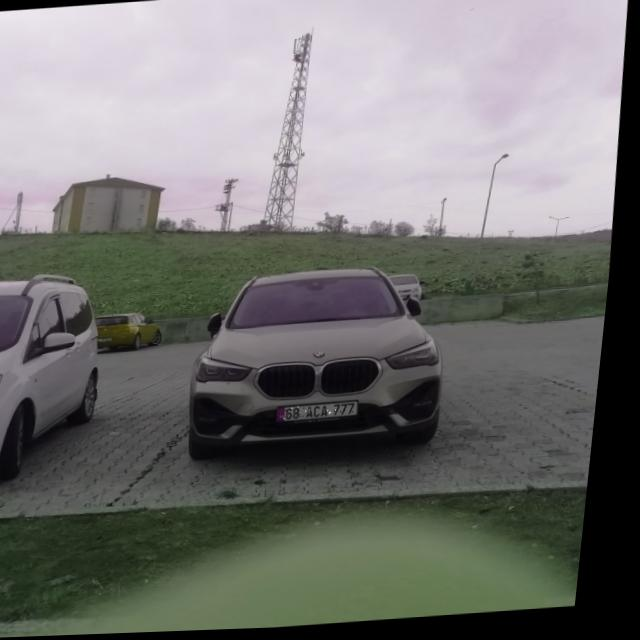license_plate: (287, 404, 367, 422)
